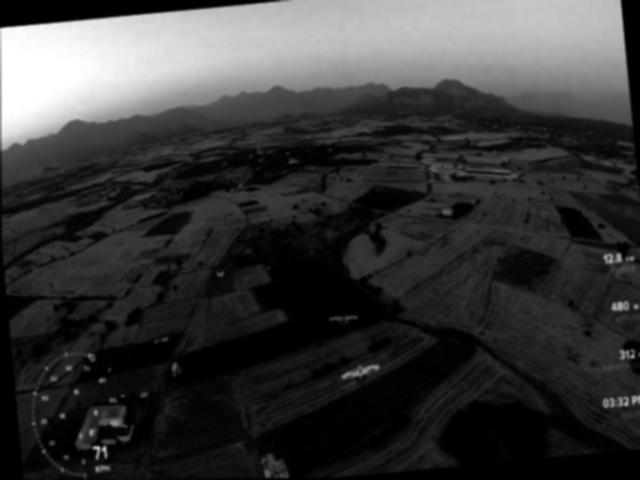hedef: (336, 355, 386, 389), (327, 306, 361, 332)
